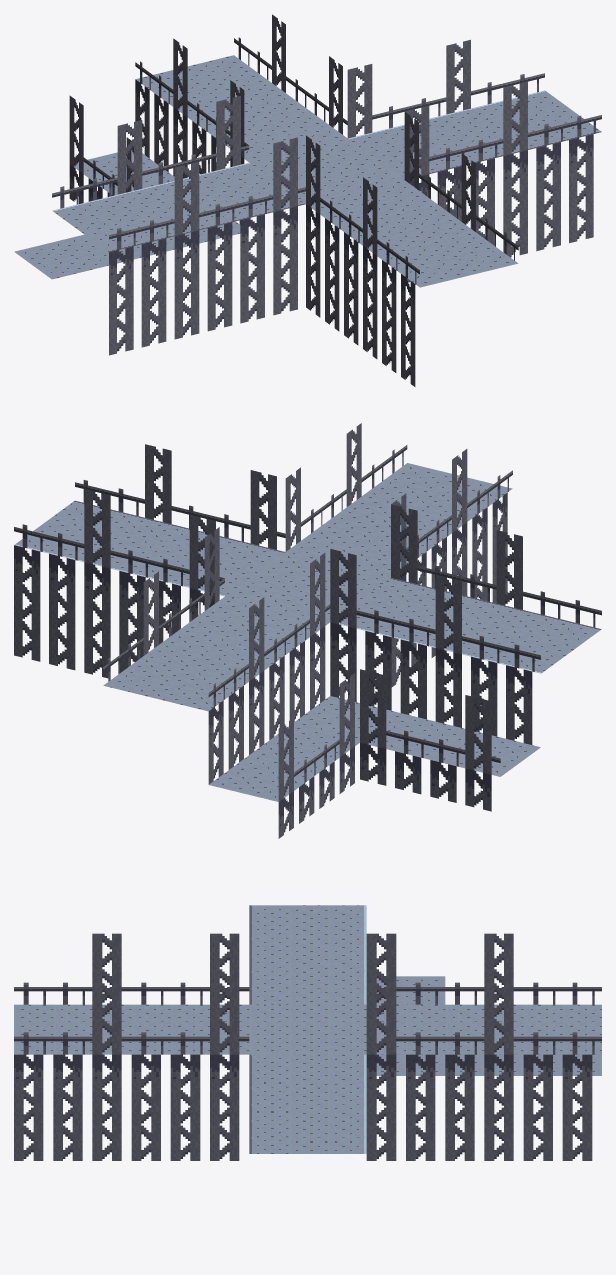
File: nest_m1_crossroads.gltf
3 renders of one model, top to bottom at view 1: azimuth 30°, elevation 25°; view 2: azimuth 150°, elevation 25°; view 3: azimuth 270°, elevation 25°, orthographic. The views are drawn at different scales.
Parts seen in each view (by area): view 1: default; view 2: default; view 3: default.
Part boxes in pixels (x1,y1,x2,y2): default: [14, 14, 601, 386]; default: [14, 423, 601, 838]; default: [14, 905, 601, 1160].
Bounding box in the file's own units: 15 × 5 × 15.
4 materials, 4 textured.
